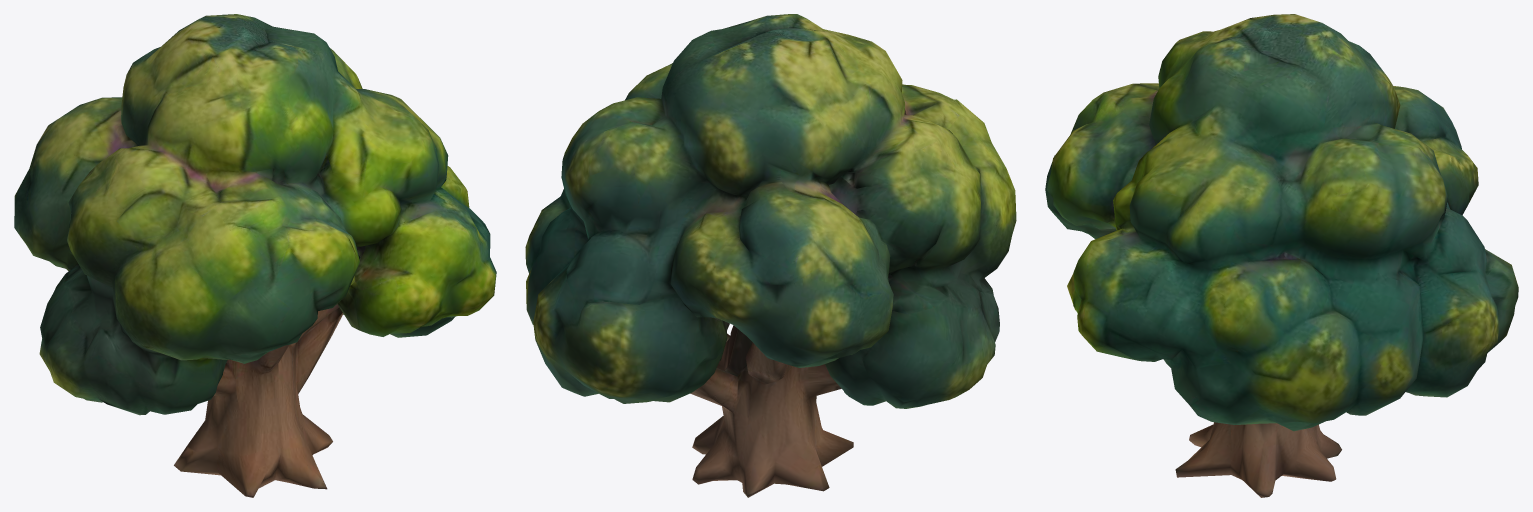
File: tree-round.glb
3 views of the same model, side by side, from view 1: azimuth 30°, elevation 25°; view 2: azimuth 150°, elevation 25°; view 3: azimuth 270°, elevation 25° (orthographic). The views are drawn at different scales.
Parts seen in each view (by area): view 1: Mesh_0; view 2: Mesh_0; view 3: Mesh_0.
Boxes of the visible parts, left/top/right/bottom form: Mesh_0: left=14, top=14, right=496, bottom=497; Mesh_0: left=525, top=14, right=1016, bottom=497; Mesh_0: left=1045, top=14, right=1518, bottom=497.
Bounding box in the file's own units: 2 × 2 × 1.99.
Materials: 1 (1 with a texture image).
